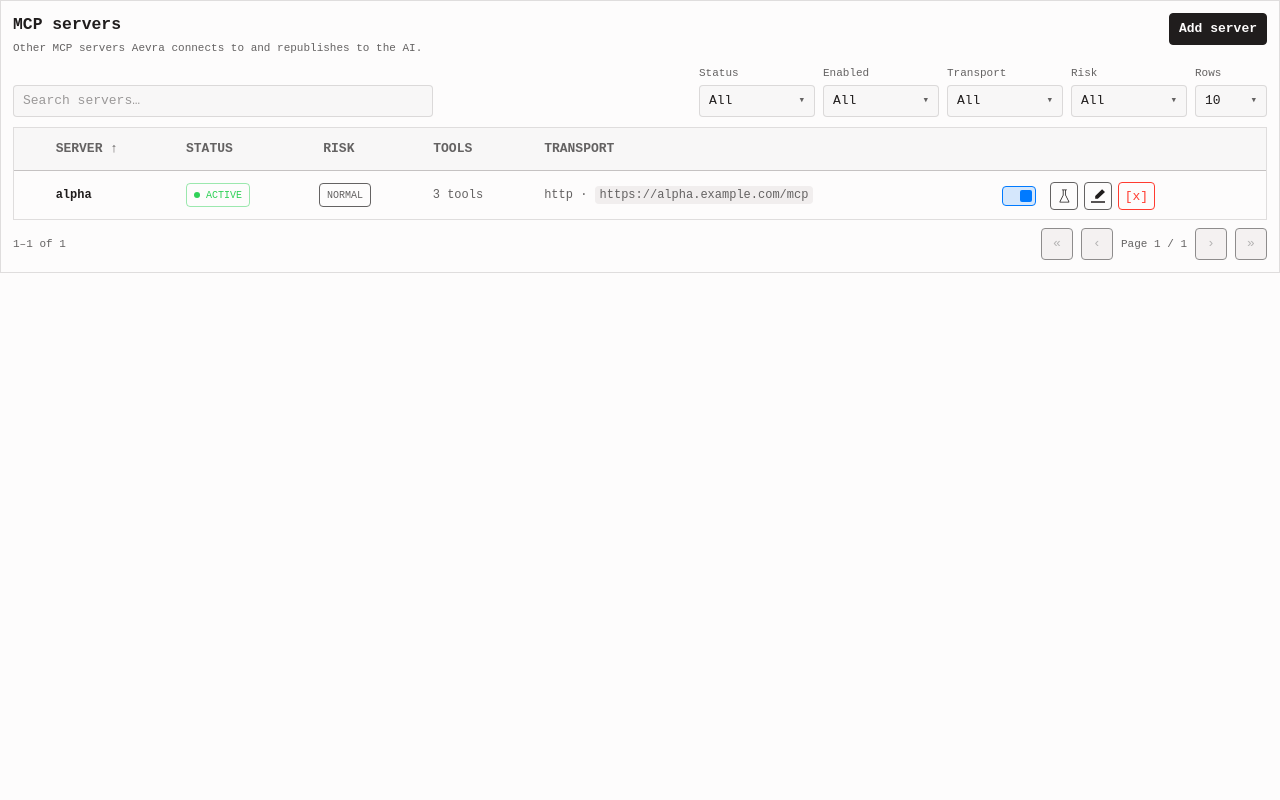
Test: McpUpstreamsSettings default services › tests a server through the default endpoint and shows unknown name fallbacks
Click the button named "Test alpha": (1064, 196) top-left (1050, 182), bottom-right (1078, 210)
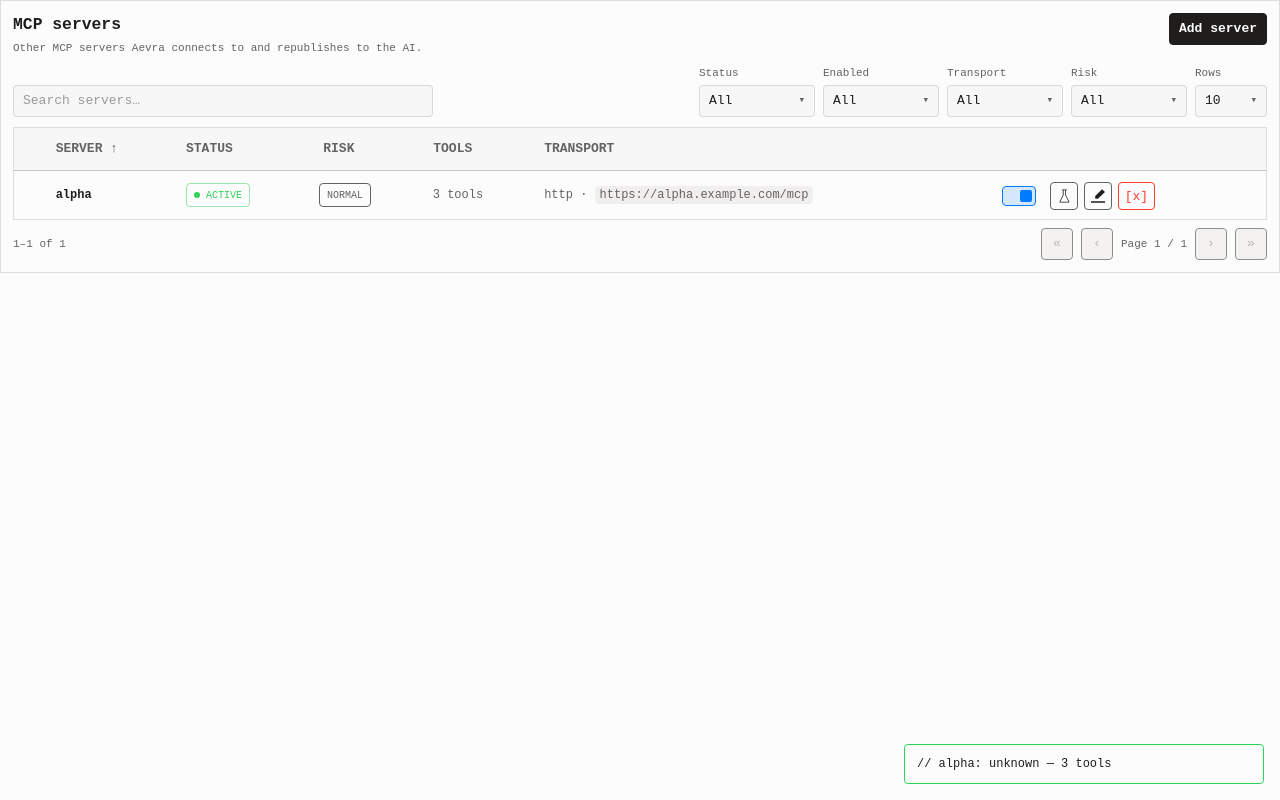
Expected: the message with class "success" reads "alpha: unknown — 3 tools", top-left (904, 744), bottom-right (1264, 784)
